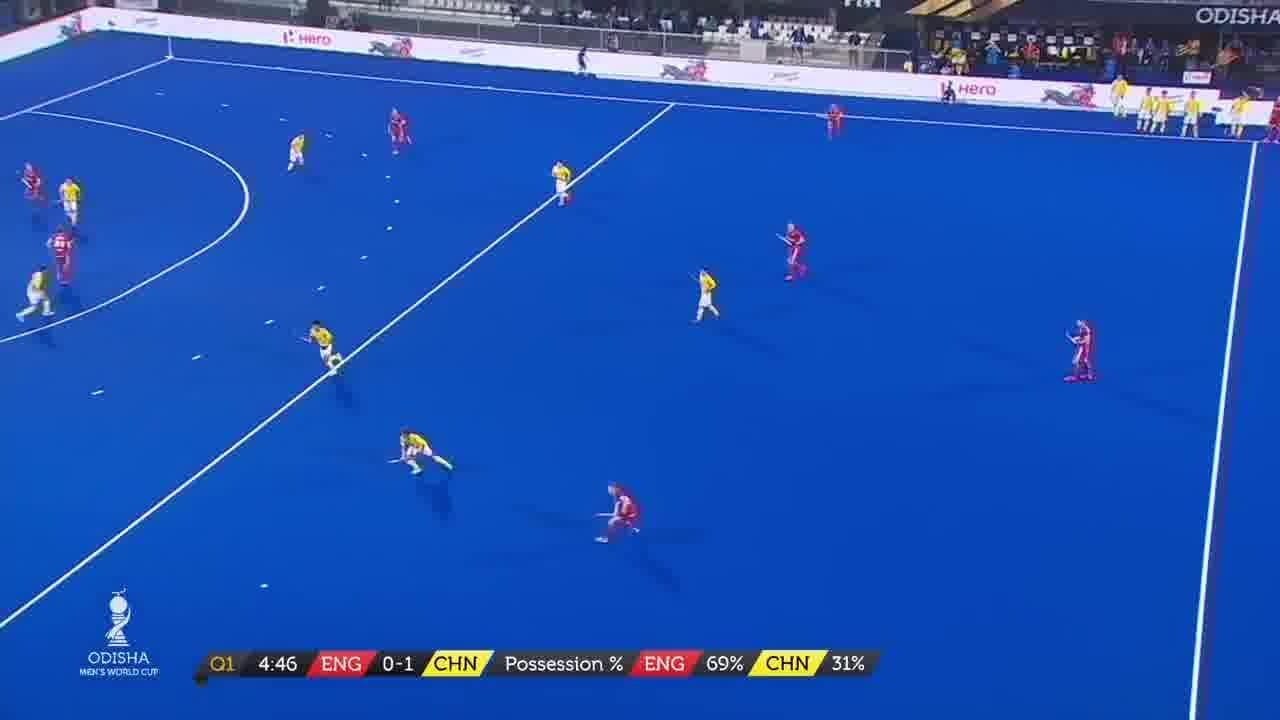ball: (258, 580, 274, 595)
